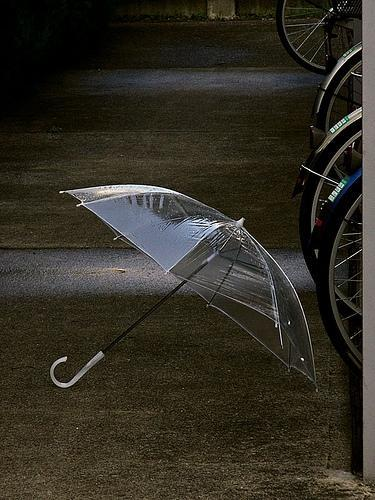bicycle: (306, 110, 364, 274), (316, 168, 360, 373), (276, 2, 362, 74), (312, 40, 363, 133)
